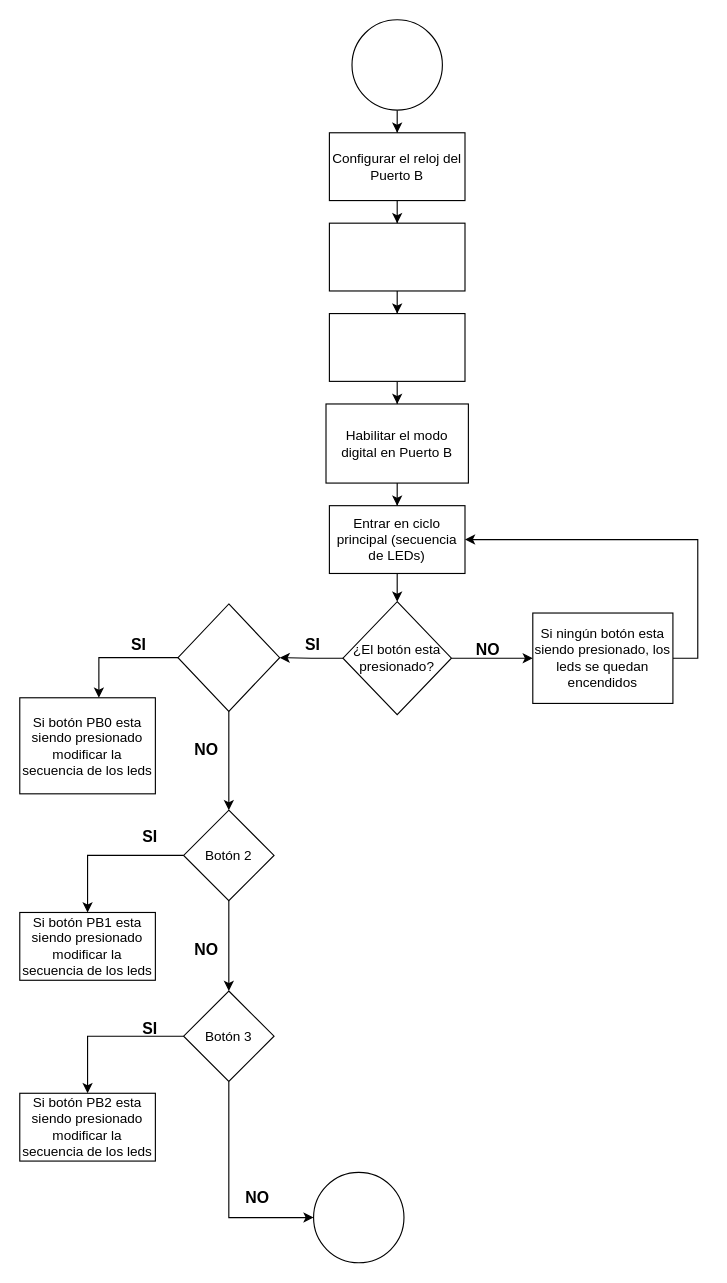
The diagram is 727 pixels wide and 1283 high, and some of its shapes have lost their labels. The centre of each missing label's shape, as x and y in pixels:
Botón 1: the point at 228,657
Configurar la dirección de los pines (PB0-PB5): the point at 396,346
Deshabilitar modo analógico y funciones alternativas en el Puerto B: the point at 396,256
FIN: the point at 358,1217
INICIO: the point at 396,64
